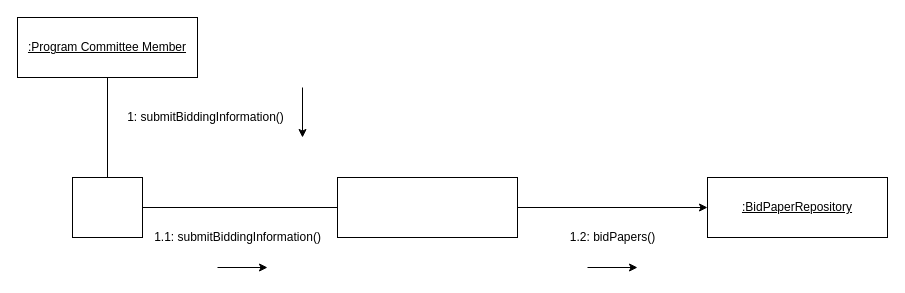
This 905x293 diagram has some shape labels left out. Here are the shapes that lost their labels. From the top down, the centre of each, then its label:
At (107,207): ":UI".
At (427,207): ":Program Committee Controller".
